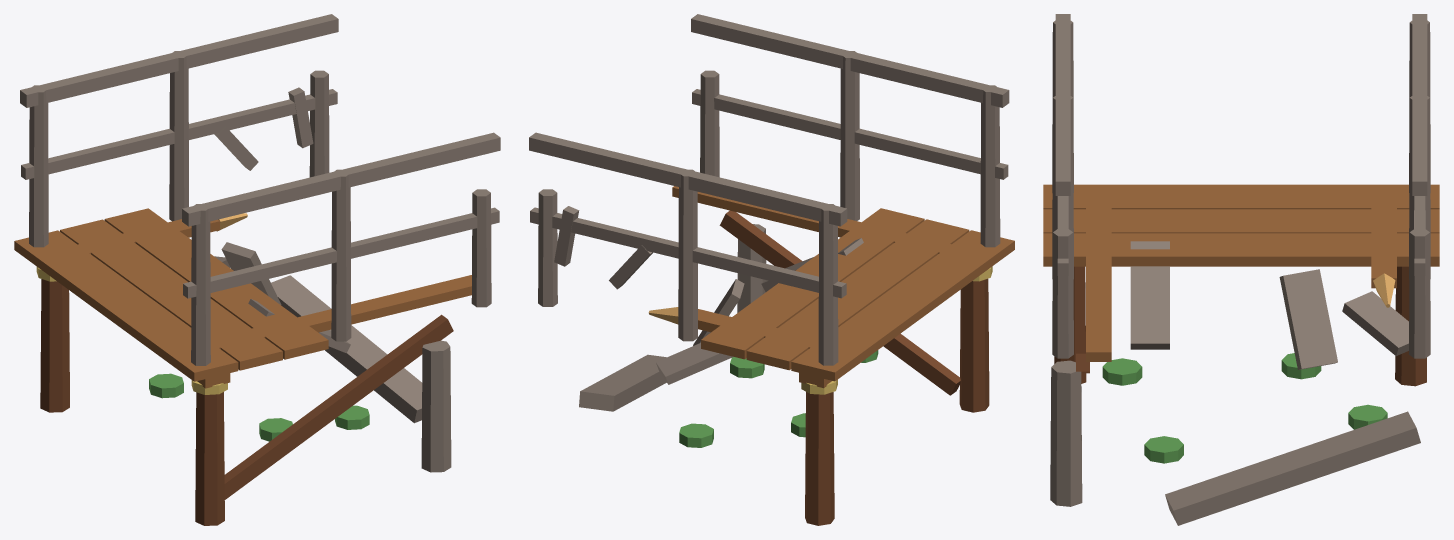
Rendered from bridge_broken 2.glb.
3 renders of one model, left to right at view 1: azimuth 30°, elevation 25°; view 2: azimuth 150°, elevation 25°; view 3: azimuth 270°, elevation 25°, orthographic. The views are drawn at different scales.
Visible parts, largest first — view 1: Deck_0.001, Deck_2.001, Deck_1.001, Top_Rail_0.001, Top_Rail_1.001, Under_Brace_0.001, Mid_Rail_0.001, Mid_Rail_1.001, Beam_0.001, Fallen_Bearer, Anchor_Leg_0.001, Fallen_Leg (+13 smaller); view 2: Deck_0.001, Deck_1.001, Top_Rail_1.001, Top_Rail_0.001, Deck_2.001, Mid_Rail_0.001, Mid_Rail_1.001, Anchor_Leg_1.001, Anchor_Leg_0.001, Under_Brace_0.001, Beam_0.001, Rail_Post_1_1.001 (+14 smaller); view 3: Deck_2.001, Fallen_Bearer, Deck_0.001, Deck_1.001, Beam_0.001, Fallen_Leg, Fallen_Plank_1, Fallen_Plank_0, Top_Rail_0.001, Top_Rail_1.001, Rail_Post_0_2.001, Rail_Post_1_2.001 (+15 smaller).
Boxes of the visible parts, x1=… form: Deck_0.001: x1=14, y1=230, x2=238, y2=381; Deck_2.001: x1=104, y1=208, x2=328, y2=359; Deck_1.001: x1=60, y1=219, x2=282, y2=370; Top_Rail_0.001: x1=182, y1=132, x2=500, y2=226; Top_Rail_1.001: x1=20, y1=14, x2=338, y2=107; Under_Brace_0.001: x1=224, y1=314, x2=453, y2=499; Mid_Rail_0.001: x1=183, y1=207, x2=499, y2=298; Mid_Rail_1.001: x1=21, y1=89, x2=337, y2=179; Beam_0.001: x1=163, y1=275, x2=471, y2=367; Fallen_Bearer: x1=271, y1=275, x2=422, y2=423; Anchor_Leg_0.001: x1=195, y1=392, x2=224, y2=525; Fallen_Leg: x1=421, y1=340, x2=451, y2=472; Deck_0.001: x1=791, y1=230, x2=1014, y2=381; Deck_1.001: x1=746, y1=219, x2=969, y2=370; Top_Rail_1.001: x1=529, y1=132, x2=847, y2=226; Top_Rail_0.001: x1=691, y1=14, x2=1009, y2=107; Deck_2.001: x1=701, y1=208, x2=924, y2=359; Mid_Rail_0.001: x1=692, y1=89, x2=1008, y2=179; Mid_Rail_1.001: x1=530, y1=207, x2=846, y2=298; Anchor_Leg_1.001: x1=805, y1=392, x2=834, y2=525; Anchor_Leg_0.001: x1=959, y1=278, x2=989, y2=412; Under_Brace_0.001: x1=719, y1=210, x2=960, y2=395; Beam_0.001: x1=672, y1=186, x2=995, y2=271; Rail_Post_1_1.001: x1=678, y1=169, x2=697, y2=341; Deck_2.001: x1=1043, y1=233, x2=1439, y2=266; Fallen_Bearer: x1=1165, y1=411, x2=1420, y2=525; Deck_0.001: x1=1043, y1=184, x2=1439, y2=209; Deck_1.001: x1=1043, y1=209, x2=1439, y2=233; Beam_0.001: x1=1086, y1=184, x2=1111, y2=361; Fallen_Leg: x1=1050, y1=360, x2=1082, y2=506; Fallen_Plank_1: x1=1279, y1=269, x2=1337, y2=369; Fallen_Plank_0: x1=1130, y1=241, x2=1169, y2=349; Top_Rail_0.001: x1=1055, y1=14, x2=1070, y2=195; Top_Rail_1.001: x1=1412, y1=14, x2=1427, y2=195; Rail_Post_0_2.001: x1=1052, y1=228, x2=1073, y2=358; Rail_Post_1_2.001: x1=1409, y1=228, x2=1430, y2=358.
Bounding box in the file's own units: 2 × 1.95 × 2.
